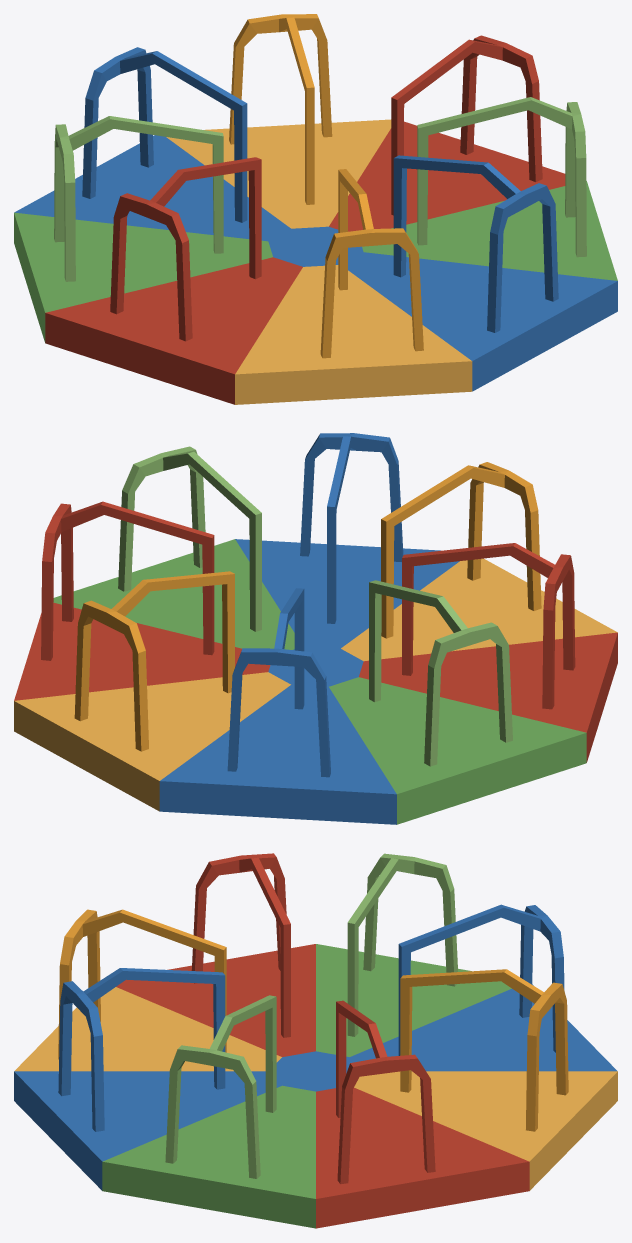
Rendered from SM_Prop_Playground_Roundabout_01.fbx.
The picture shows the model from 3 angles, top to bottom: view 1: azimuth 30°, elevation 25°; view 2: azimuth 150°, elevation 25°; view 3: azimuth 270°, elevation 25°; orthographic projection. The views are drawn at different scales.
Parts seen in each view (by area): view 1: SM_Prop_Playground_Roundabout_01; view 2: SM_Prop_Playground_Roundabout_01; view 3: SM_Prop_Playground_Roundabout_01.
Boxes of the visible parts, x1,y1,x2,y2 form: SM_Prop_Playground_Roundabout_01: [14, 14, 617, 404]; SM_Prop_Playground_Roundabout_01: [14, 433, 617, 824]; SM_Prop_Playground_Roundabout_01: [14, 853, 617, 1228].
Bounding box in the file's own units: 319 × 109 × 319.
